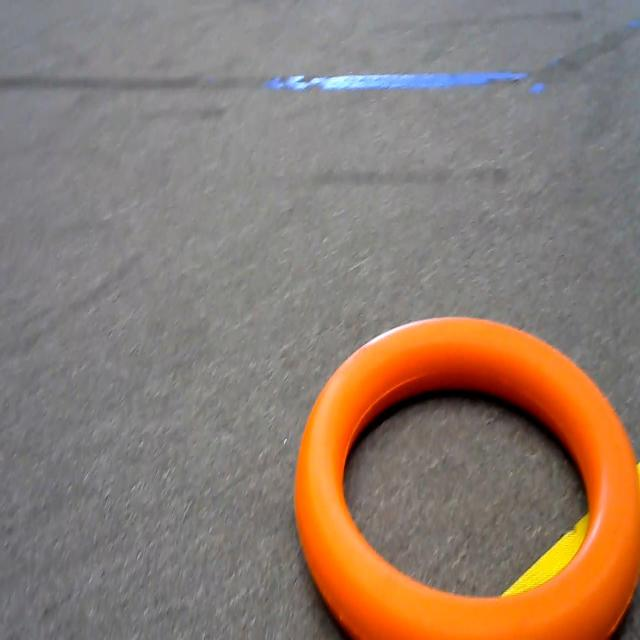note: (291, 294, 640, 640)
